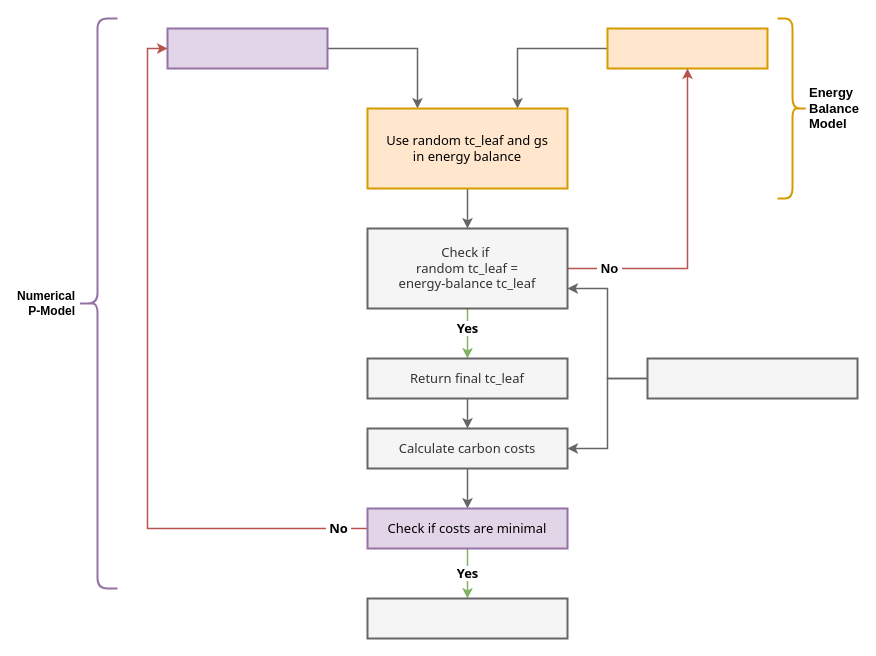
This 876x656 diagram has some shape labels left out. The centre of each missing label's shape, as x and y in pixels:
"Abiotic Environment (tc_air, vpd_air, co2, ppfd, patm)" goes at point (752, 378).
"Pick random tc_leaf" goes at point (687, 48).
"Pick random values for vcmax, jmax, gs" goes at point (247, 48).
"Return optimal vcmax, jmax, gs, and tc_leaf" goes at point (467, 618).
